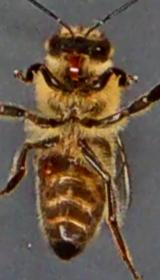varroa_mite: (29, 148, 68, 186)
